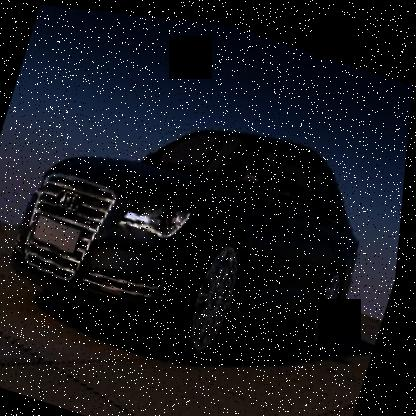not_emergency: (0, 53, 402, 408)
